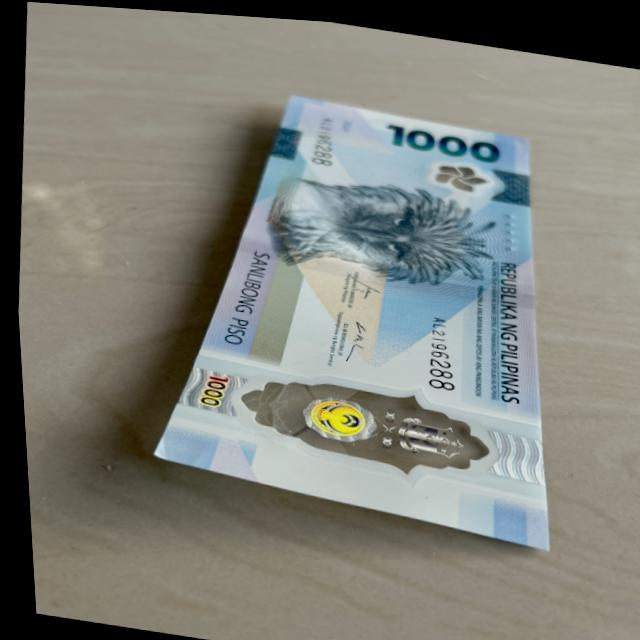clear_window: (225, 361, 498, 487)
eagle: (251, 160, 487, 290)
sampaguita: (428, 153, 493, 190)
